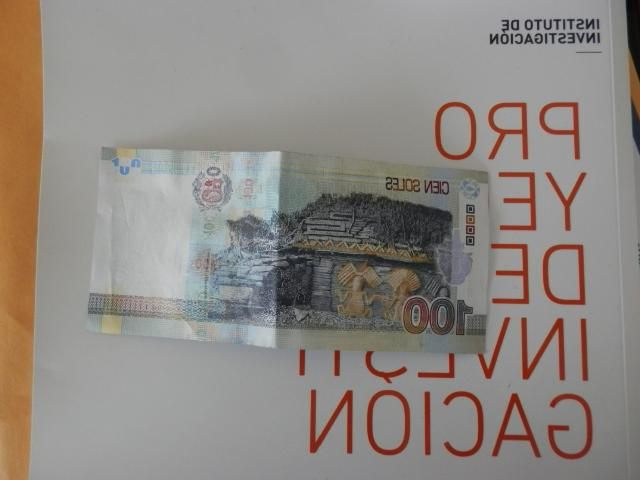B100: (87, 150, 490, 353)
